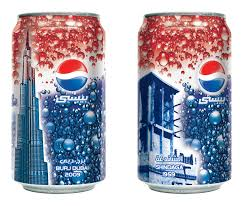can: (133, 9, 234, 196), (10, 9, 110, 197)
